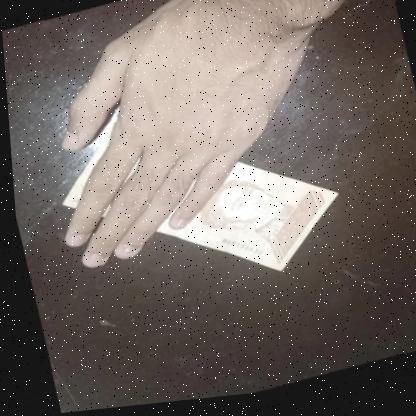twenty-front-vef: (41, 75, 352, 326)
